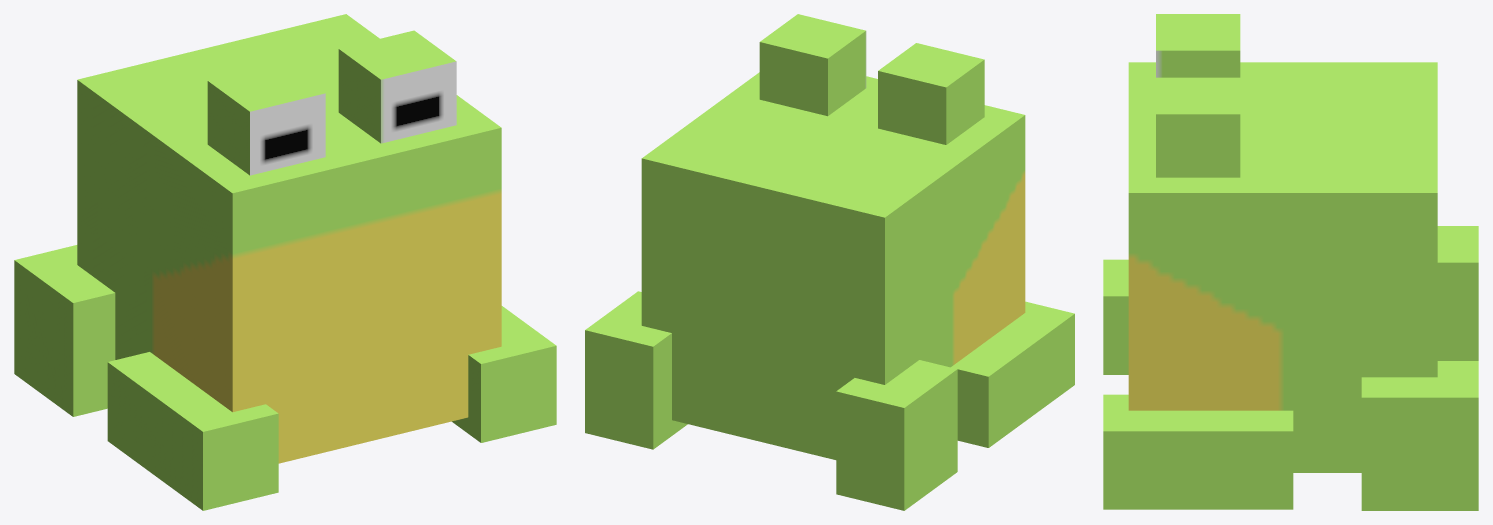
Rendered from Frog.001.dae.
3 renders of one model, left to right at view 1: azimuth 30°, elevation 25°; view 2: azimuth 150°, elevation 25°; view 3: azimuth 270°, elevation 25°, orthographic. The views are drawn at different scales.
Visible parts, largest first — view 1: Cube-001; view 2: Cube-001; view 3: Cube-001.
Boxes of the visible parts, bbox=[...] form: Cube-001: bbox=[14, 14, 556, 510]; Cube-001: bbox=[585, 14, 1074, 510]; Cube-001: bbox=[1103, 14, 1478, 510].
Size of the model in its own units: 2.63 by 2.58 by 2.43.
1 material, 1 textured.
